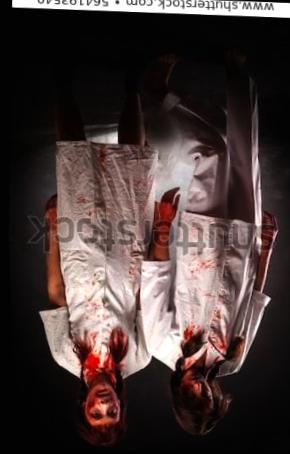Fire: (78, 337, 115, 427), (211, 331, 227, 359), (179, 328, 193, 341)
